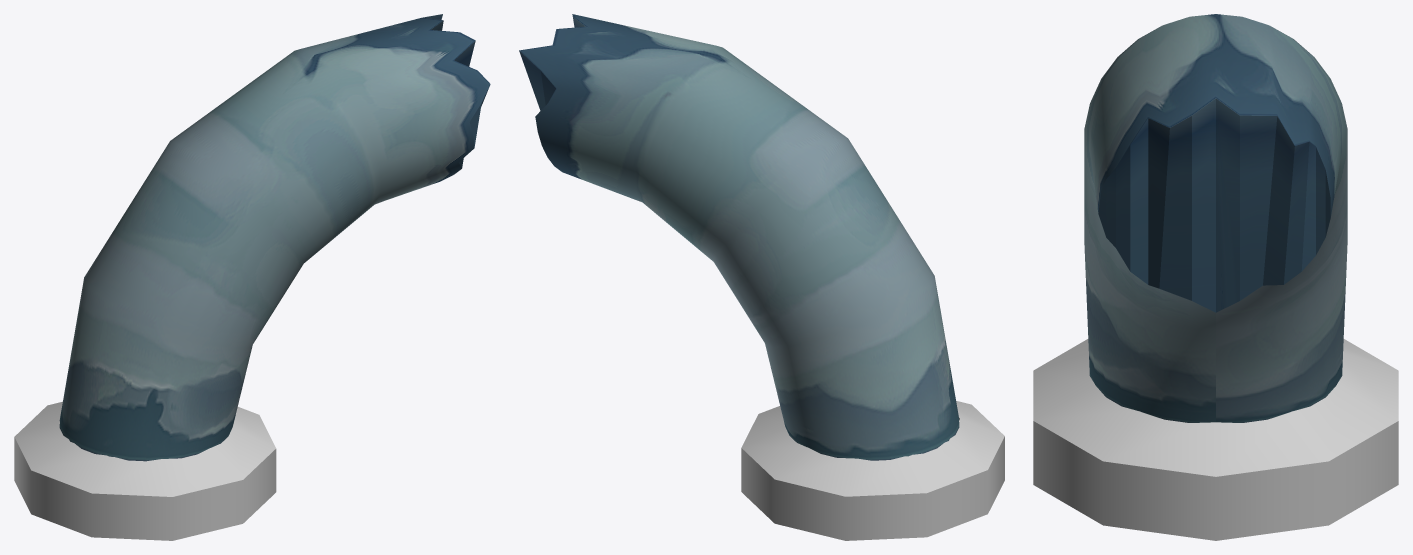
File: SM_CT_BTentacle.FBX
3 views of the same model, side by side, from view 1: azimuth 30°, elevation 25°; view 2: azimuth 150°, elevation 25°; view 3: azimuth 270°, elevation 25° (orthographic). The views are drawn at different scales.
Visible parts, largest first — view 1: SM_CT_BTentacle; view 2: SM_CT_BTentacle; view 3: SM_CT_BTentacle.
Part boxes in pixels (<box>): SM_CT_BTentacle: <box>14,14,490,540</box>; SM_CT_BTentacle: <box>519,14,1004,540</box>; SM_CT_BTentacle: <box>1033,14,1398,540</box>.
Bounding box in the file's own units: 148 × 125 × 72.95.
